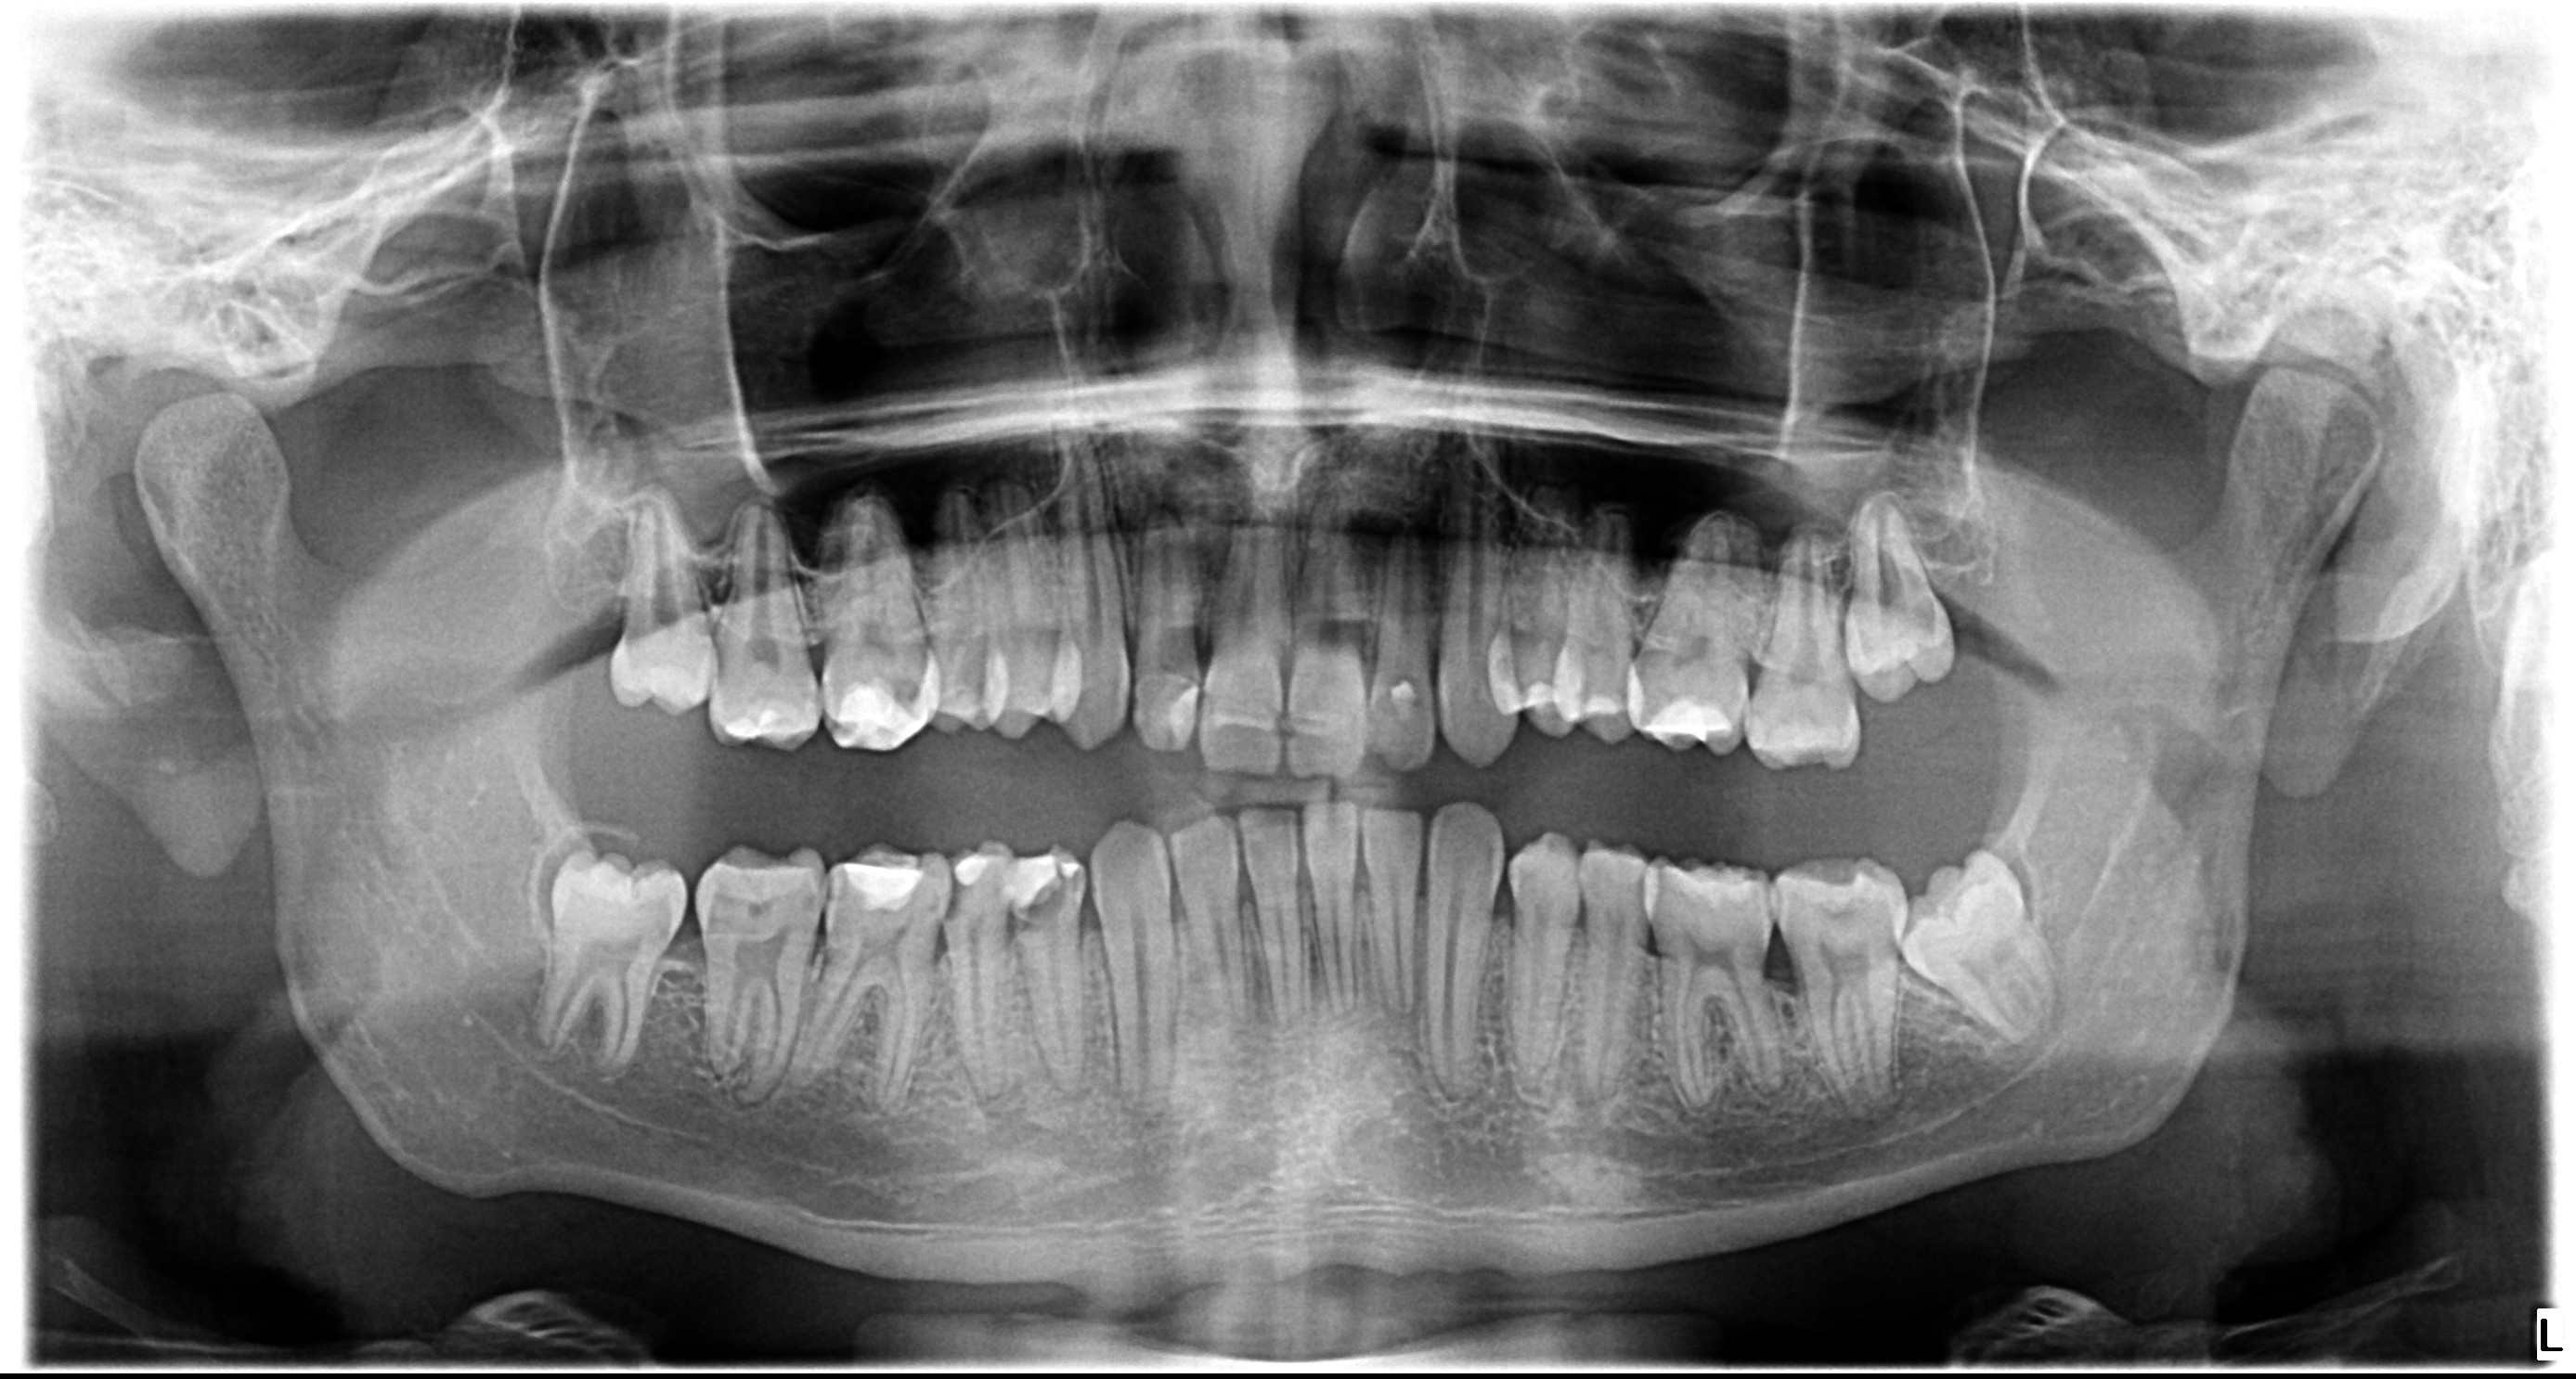BON: (540, 819, 681, 1081), (1896, 851, 2090, 1037)
CAR: (1014, 877, 1078, 936), (1901, 589, 1944, 654), (881, 662, 932, 715), (1261, 701, 1315, 747), (940, 882, 985, 930), (727, 894, 784, 930), (791, 678, 830, 717), (819, 873, 855, 913), (797, 875, 823, 921), (1818, 901, 1869, 921)
PRR: (830, 838, 937, 913), (1639, 693, 1745, 752), (1005, 843, 1089, 906), (843, 674, 908, 746), (722, 700, 808, 747), (1160, 672, 1205, 761), (1373, 671, 1431, 729), (949, 843, 1007, 890)
